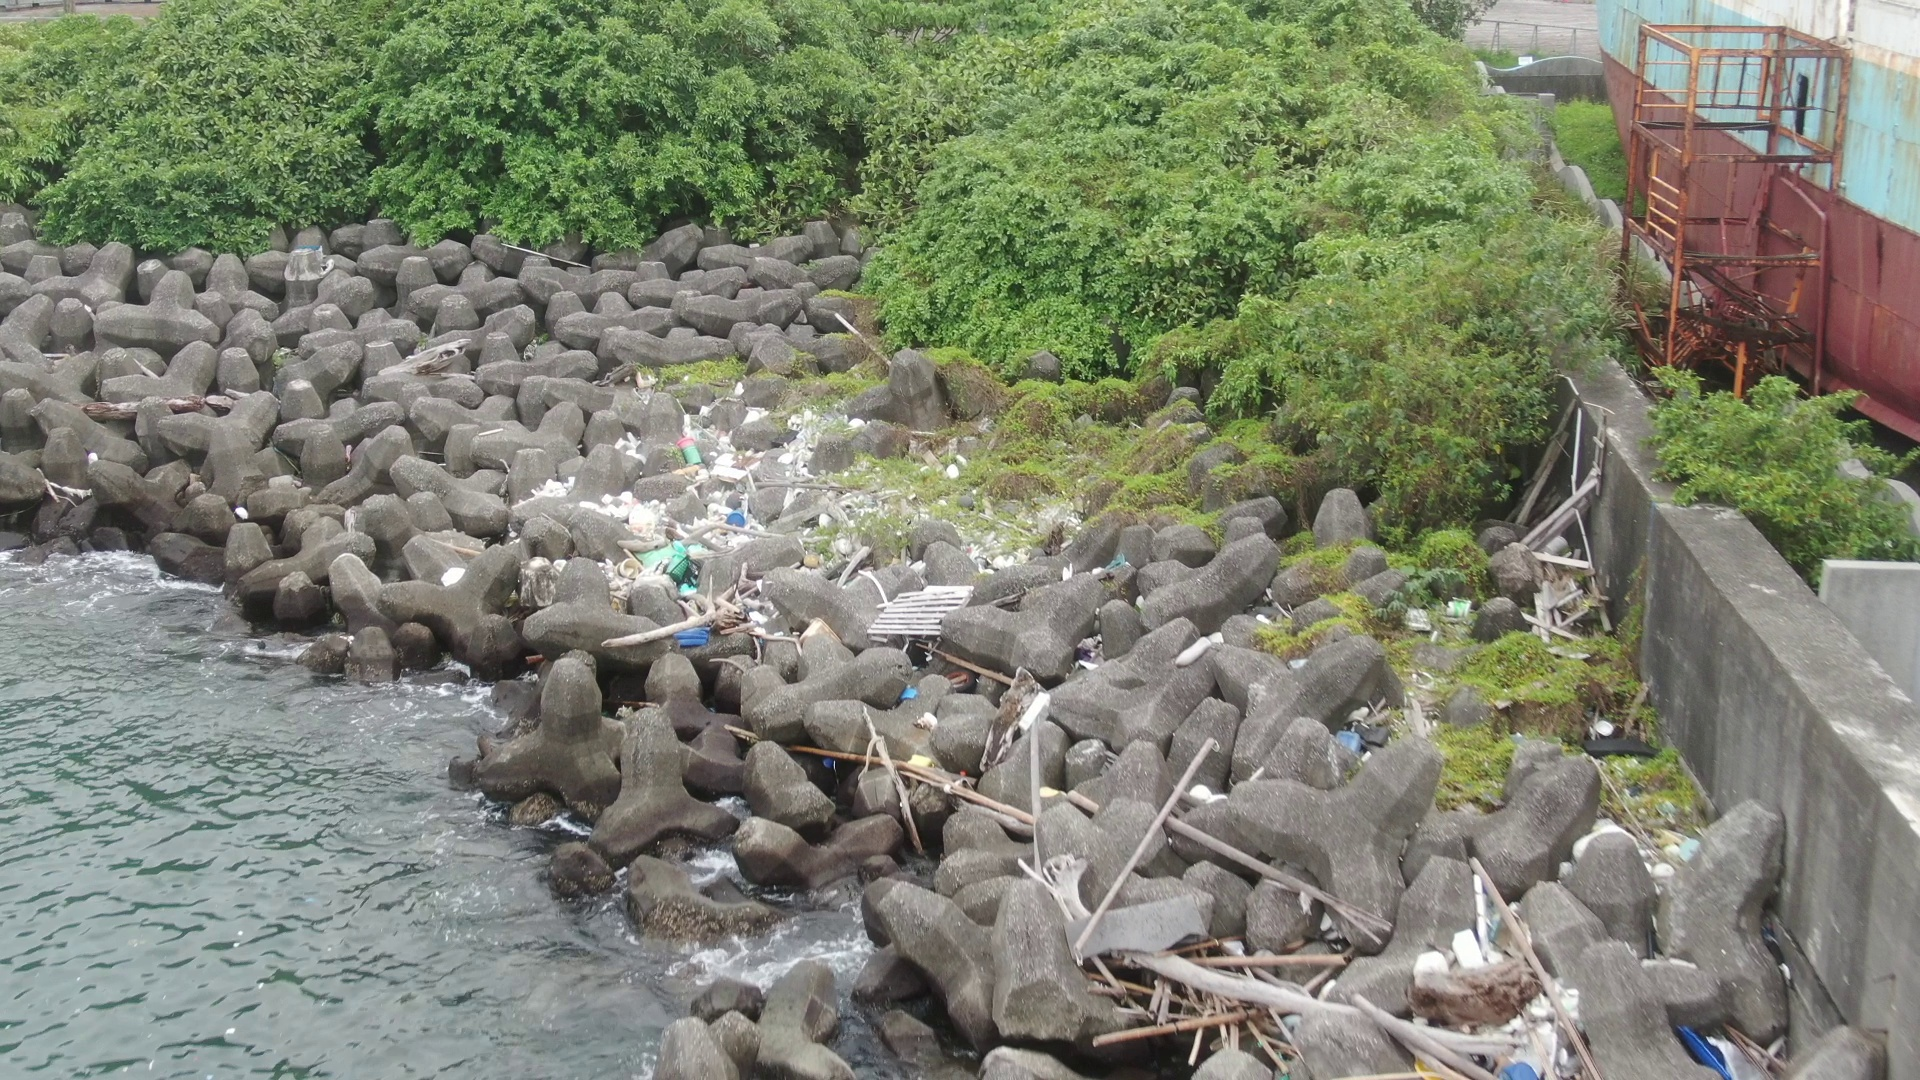garbage: (531, 369, 1029, 651), (1027, 831, 1357, 1060), (1386, 869, 1619, 1080), (820, 658, 1048, 800), (1077, 547, 1236, 669), (1671, 1001, 1785, 1080), (1578, 705, 1668, 777), (1332, 694, 1396, 765), (1398, 588, 1484, 638)
